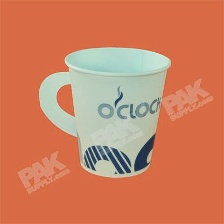paper_cup: (35, 41, 174, 181)
